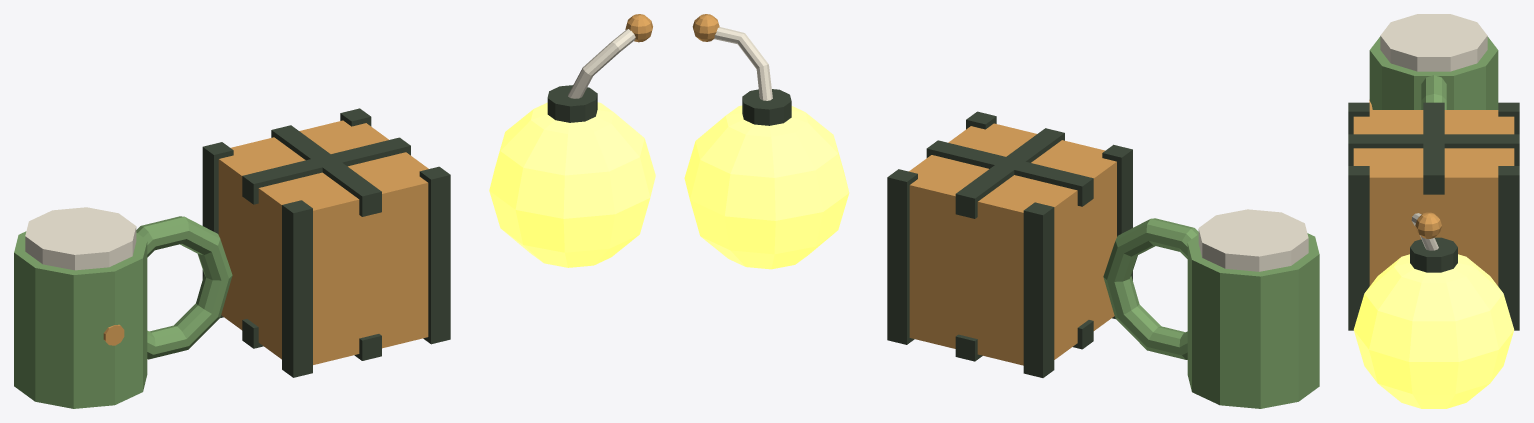
File: faceted.glb
The picture shows the model from 3 angles, left to right: view 1: azimuth 30°, elevation 25°; view 2: azimuth 150°, elevation 25°; view 3: azimuth 270°, elevation 25°; orthographic projection. The views are drawn at different scales.
Visible parts, largest first — view 1: calibration_faceted; view 2: calibration_faceted; view 3: calibration_faceted.
Boxes of the visible parts, x1=… form: calibration_faceted: x1=14, y1=14, x2=655, y2=408; calibration_faceted: x1=684, y1=14, x2=1319, y2=408; calibration_faceted: x1=1348, y1=14, x2=1519, y2=408.
Bounding box in the file's own units: 1.27 × 0.46 × 0.32.
